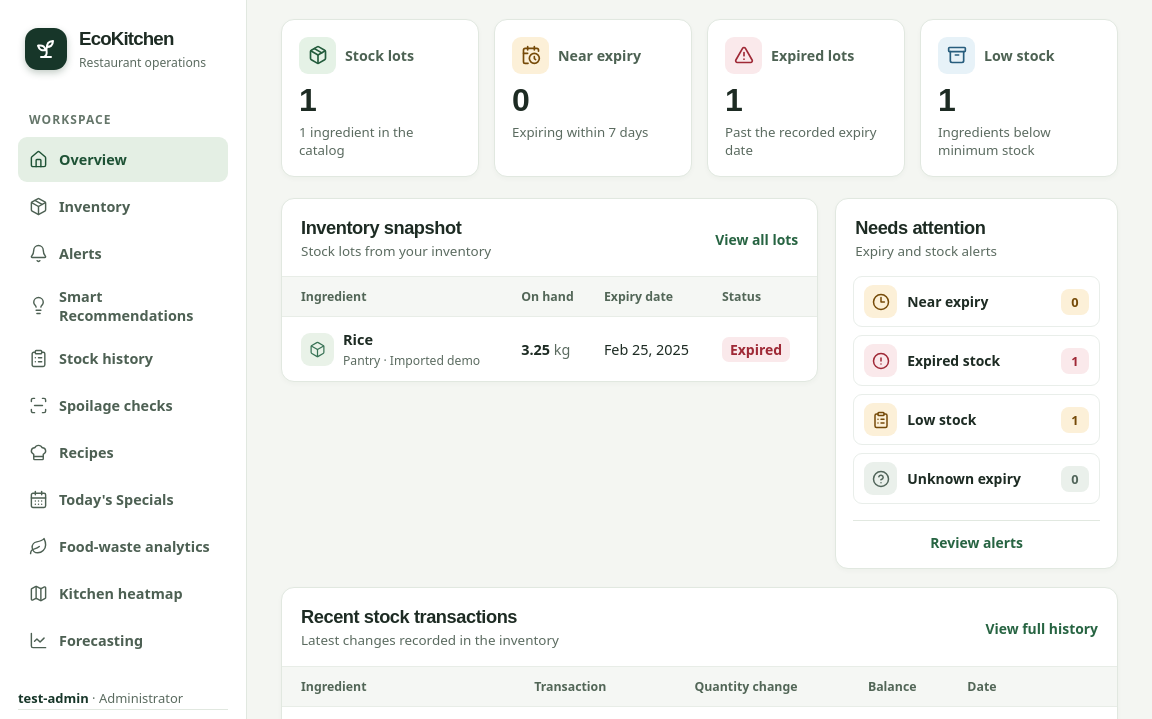
Test: EcoKitchen dashboard › renders real response counts, imported-demo context and navigable alerts
(page scrolled)
Check: the text "1 ingredient in the catalog" is shown, box 299,123 -> 414,159
Click the link "Expired stock 1" at (977, 361), box 853,335 -> 1100,386
(page scrolled)
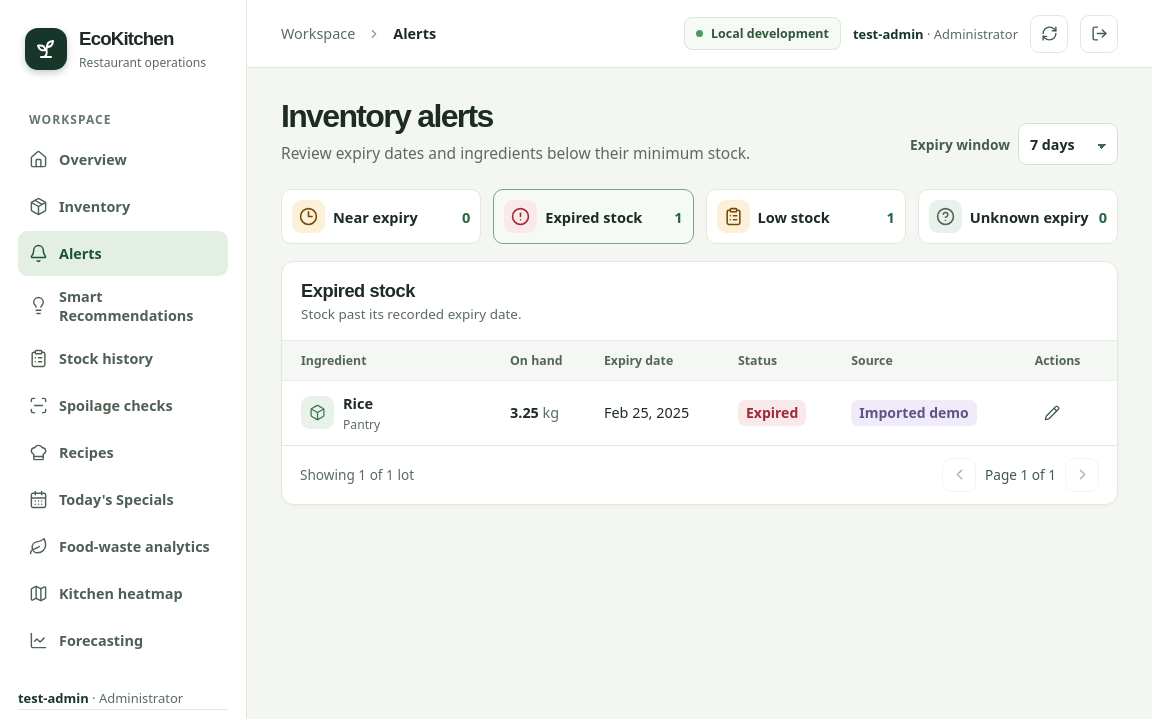
Check: the text "Expired" is shown, box 738,400 -> 806,426
Check: the text "Imported demo" is shown, box 851,400 -> 977,426
Click the link "Low stock 1" at (806, 217), box 706,189 -> 906,244
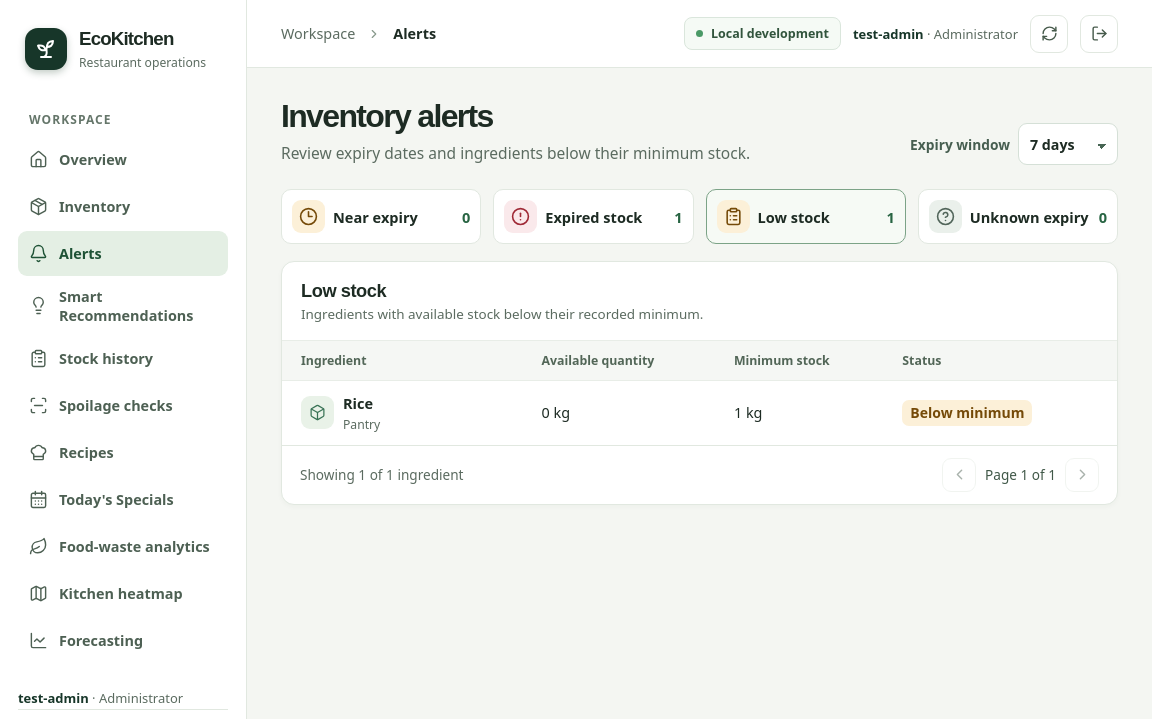
Check: the table named "Low-stock ingredients" is shown, box 282,340 -> 1117,445
